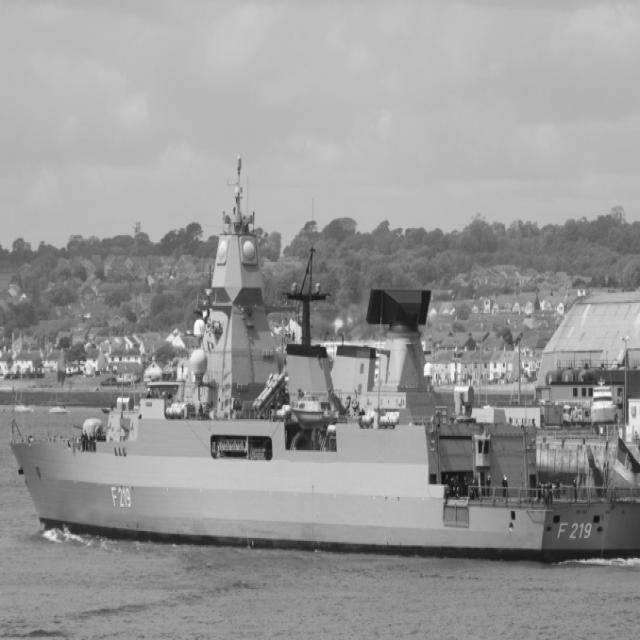Fragata: (8, 151, 640, 568)
